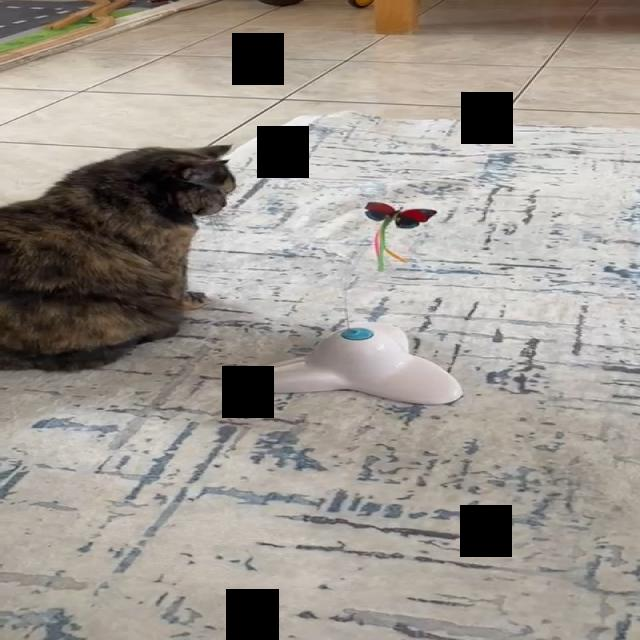authorized: (0, 143, 236, 372)
